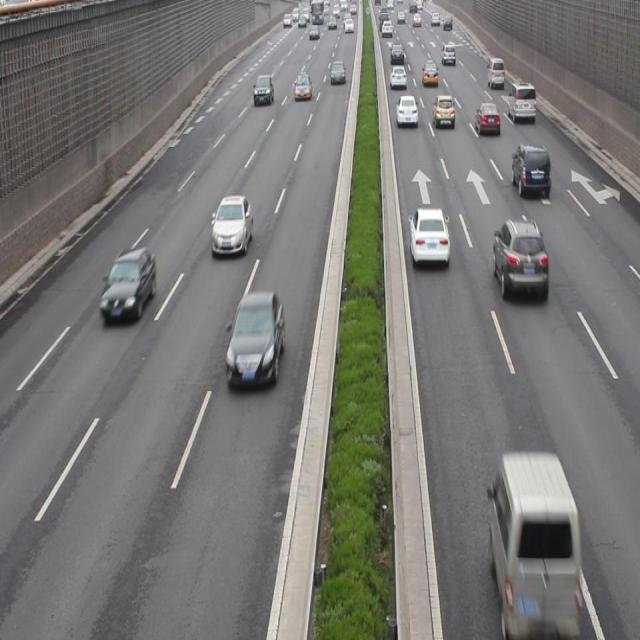car: (226, 292, 285, 388), (493, 218, 546, 300), (100, 248, 156, 323), (408, 206, 450, 268), (212, 194, 252, 258), (510, 142, 548, 199), (473, 100, 500, 136)
truck: (486, 452, 580, 618)
